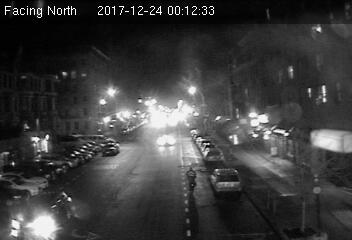car: (210, 168, 243, 195), (101, 141, 120, 156), (202, 148, 223, 161), (156, 134, 176, 147)
pedestrian: (184, 166, 200, 195)
